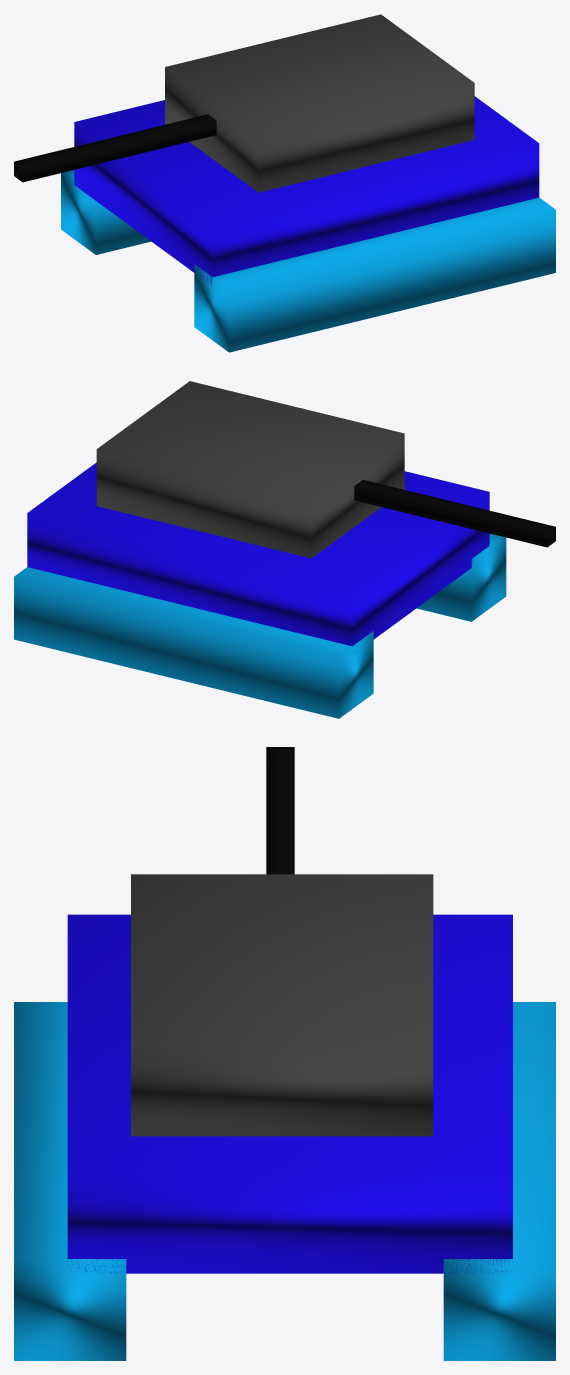
The model's file is bluebigtank.glb.
3 views of the same model, one above another, from view 1: azimuth 30°, elevation 25°; view 2: azimuth 150°, elevation 25°; view 3: azimuth 270°, elevation 25° (orthographic). The views are drawn at different scales.
Visible parts, largest first — view 1: Cube.002, Cube.003, Cube, Cube.004, Cube.001; view 2: Cube.002, Cube.003, Cube.001, Cube.004, Cube; view 3: Cube.002, Cube.003, Cube, Cube.001, Cube.004.
Boxes of the visible parts, box(x1,y1,x2,y2) form: Cube.002: box(74, 96, 539, 284); Cube.003: box(165, 14, 474, 192); Cube: box(194, 197, 555, 352); Cube.004: box(14, 114, 216, 182); Cube.001: box(61, 170, 150, 254); Cube.002: box(27, 462, 489, 651); Cube.003: box(96, 381, 404, 558); Cube.001: box(14, 567, 373, 718); Cube.004: box(354, 480, 555, 547); Cube: box(416, 533, 506, 621); Cube.002: box(67, 914, 512, 1273); Cube.003: box(131, 874, 433, 1136); Cube: box(14, 1002, 126, 1360); Cube.001: box(443, 1002, 555, 1360); Cube.004: box(266, 747, 294, 874).
Size of the model in its own units: 24.95 by 9.14 by 15.96.
